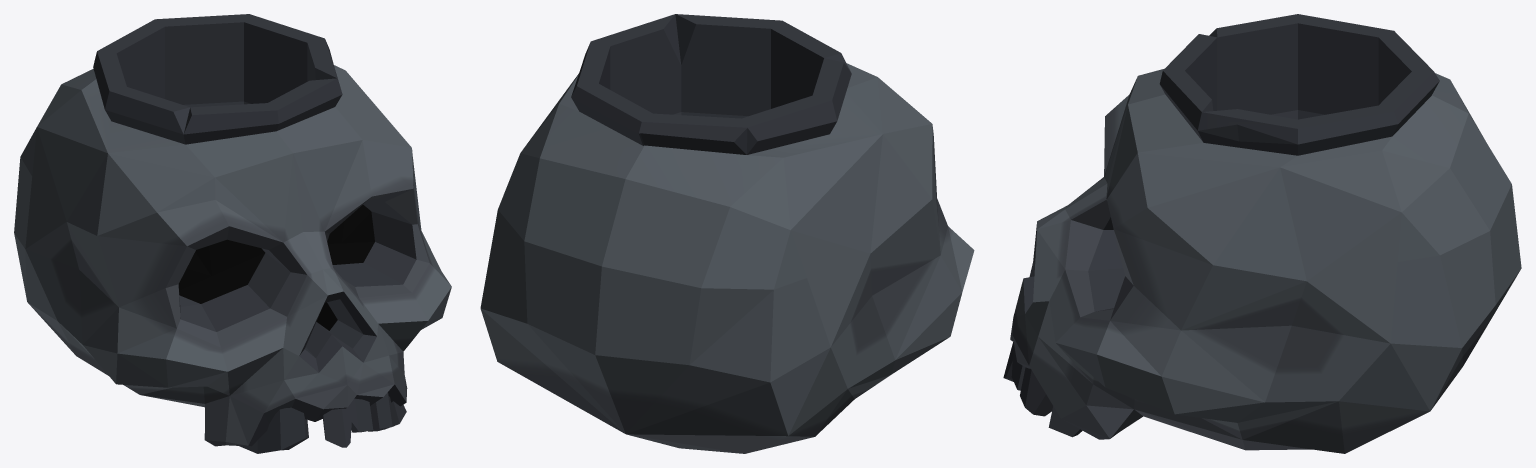
The model's file is SM_Prop_Cup_02.fbx.
3 views of the same model, side by side, from view 1: azimuth 30°, elevation 25°; view 2: azimuth 150°, elevation 25°; view 3: azimuth 270°, elevation 25° (orthographic). The views are drawn at different scales.
Parts seen in each view (by area): view 1: SM_Prop_Cup_02; view 2: SM_Prop_Cup_02; view 3: SM_Prop_Cup_02.
Part boxes in pixels (x1=…): SM_Prop_Cup_02: x1=14, y1=14, x2=451, y2=453; SM_Prop_Cup_02: x1=480, y1=14, x2=974, y2=453; SM_Prop_Cup_02: x1=1003, y1=14, x2=1521, y2=453.
Size of the model in its own units: 21.63 by 20.27 by 27.43.
